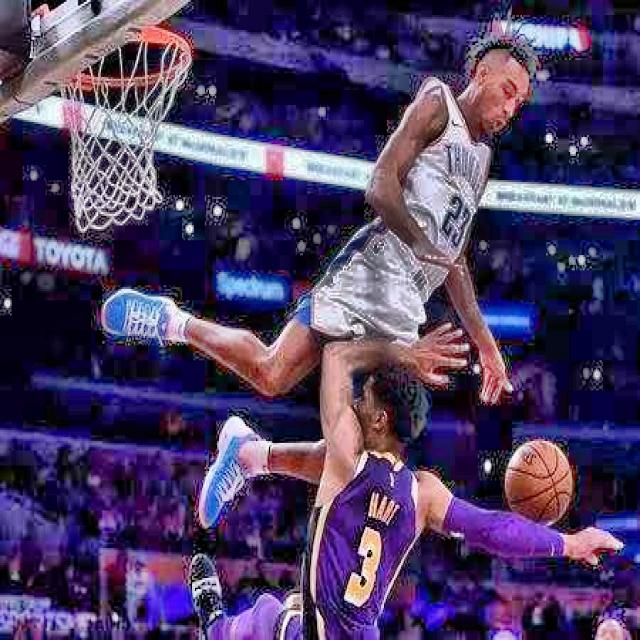board: (505, 438, 574, 534)
rim: (61, 24, 192, 226)
